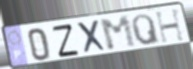0: (26, 26, 52, 62)
H: (154, 6, 188, 45)
M: (98, 14, 139, 52)
Q: (130, 13, 162, 46)
X: (75, 19, 109, 56)
Z: (51, 22, 81, 59)
